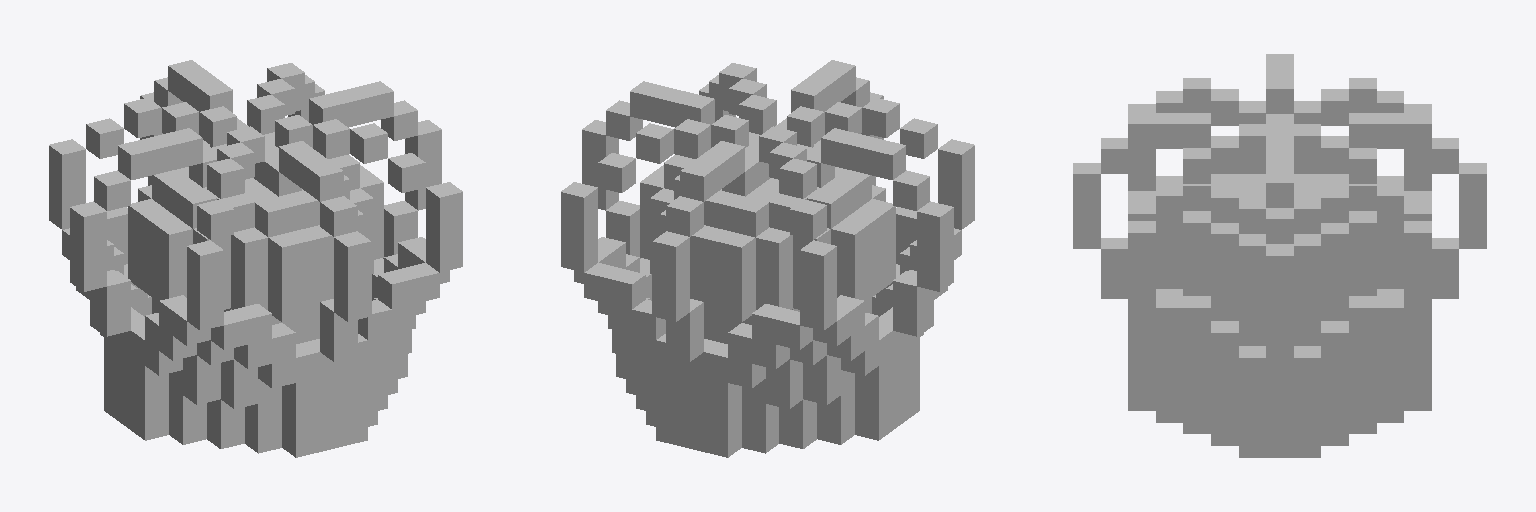
Rendered from Crown.obj.
3 renders of one model, left to right at view 1: azimuth 30°, elevation 25°; view 2: azimuth 150°, elevation 25°; view 3: azimuth 270°, elevation 25°, orthographic.
Size of the model in its own units: 15 by 11 by 15.